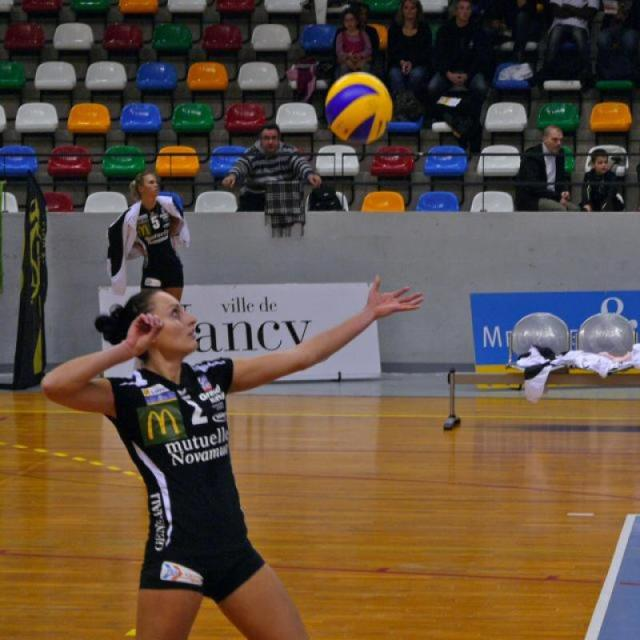volleyball: (323, 70, 396, 145)
